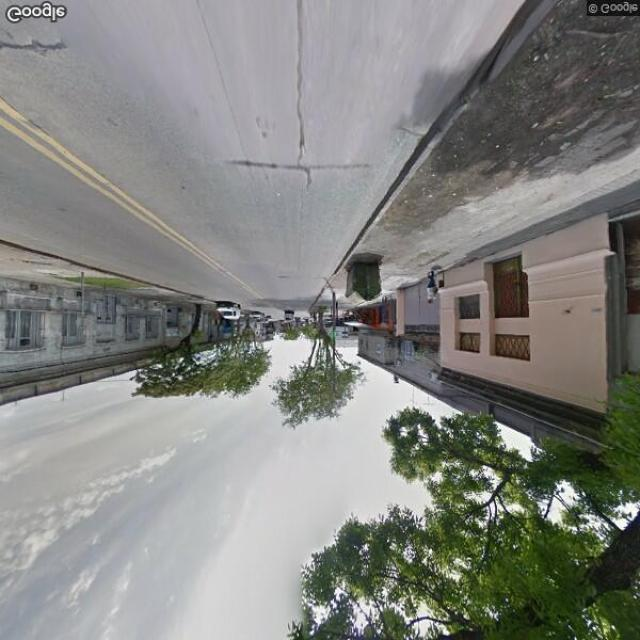garbage container: (343, 252, 389, 310)
